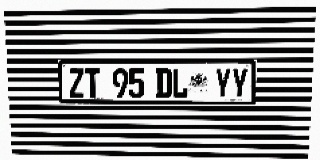5: (129, 68, 144, 98)
9: (112, 68, 128, 98)
D: (156, 68, 172, 98)
L: (172, 68, 188, 98)
T: (84, 68, 101, 98)
Y: (214, 68, 231, 98), (231, 68, 248, 98)
Z: (69, 68, 85, 98)
